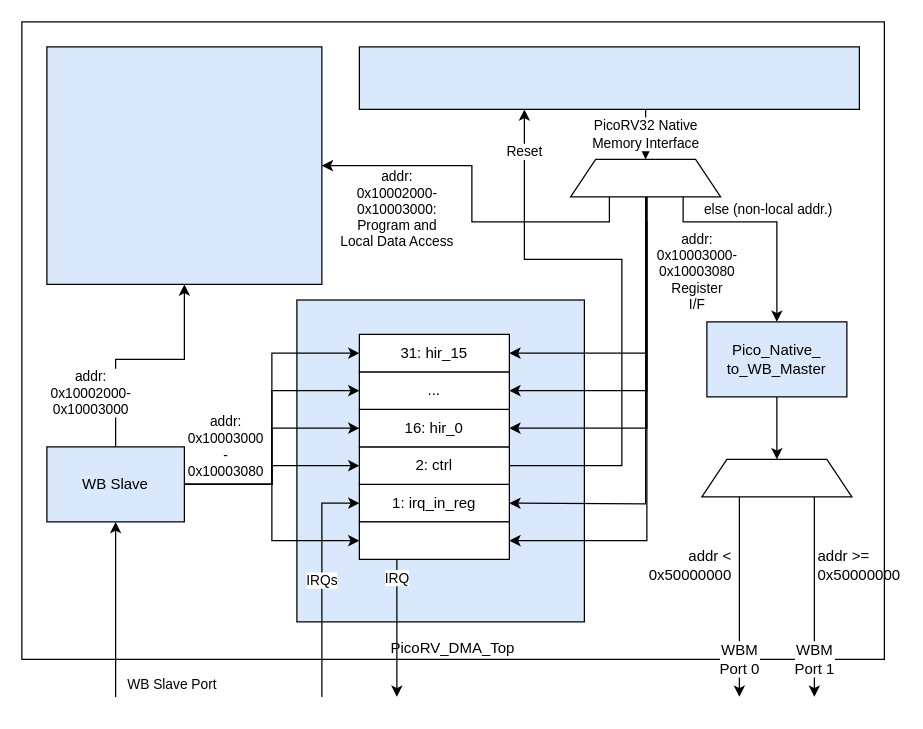
The diagram is 923 pixels wide and 729 high, and some of its shapes have lost their labels. Each missing label, with the box of its shape:
0: irq_out_reg: (358, 521, 509, 559)
PicoRV Program Memory (Program+Local Data) 1Kx32bits: (46, 46, 322, 284)
PicoRV32: (358, 46, 859, 109)
System and Host Interface Registers: (296, 299, 584, 622)
